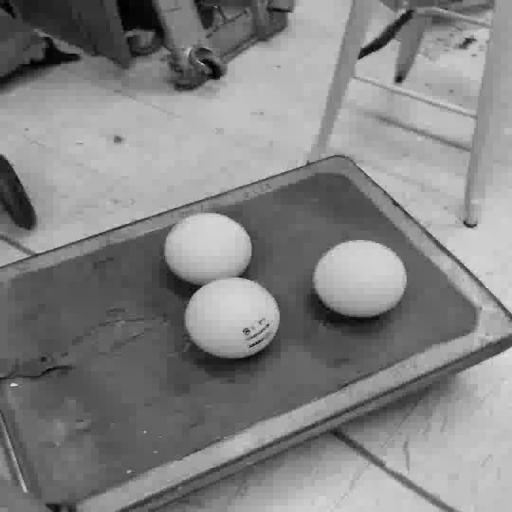fuel: (185, 278, 280, 359), (313, 241, 406, 318), (164, 213, 252, 285)
